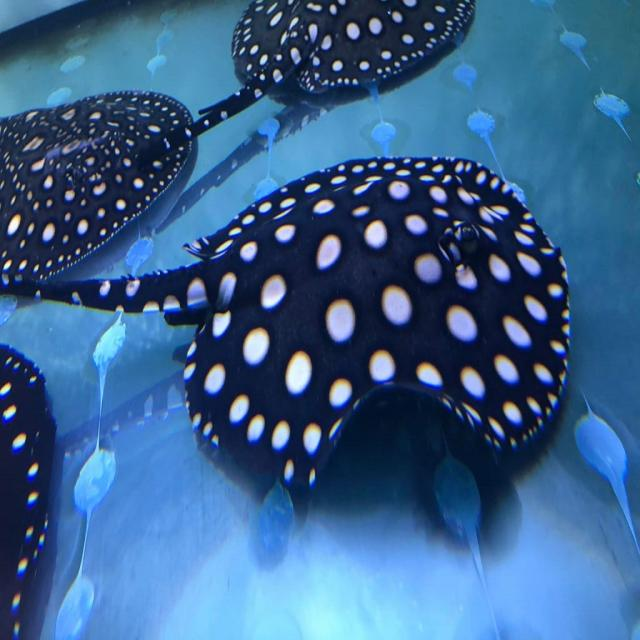black-diamond-sting-ray: (26, 25, 608, 591)
